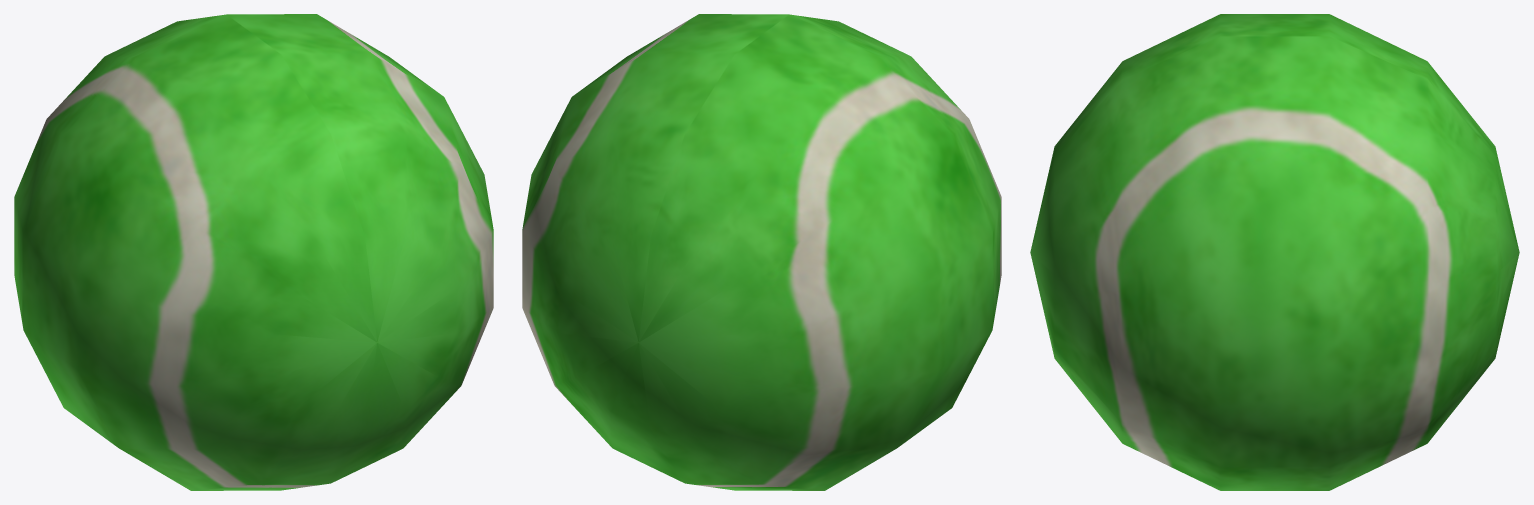
File: NitrogenObject.DAE
The picture shows the model from 3 angles, left to right: view 1: azimuth 30°, elevation 25°; view 2: azimuth 150°, elevation 25°; view 3: azimuth 270°, elevation 25°; orthographic projection.
Parts seen in each view (by area): view 1: Sphere001; view 2: Sphere001; view 3: Sphere001.
Boxes of the visible parts, left/top/right/bottom form: Sphere001: left=14, top=14, right=493, bottom=490; Sphere001: left=522, top=14, right=1001, bottom=490; Sphere001: left=1030, top=14, right=1519, bottom=490.
Size of the model in its own units: 22.45 by 23.62 by 23.03.
Materials: 1 (1 with a texture image).
